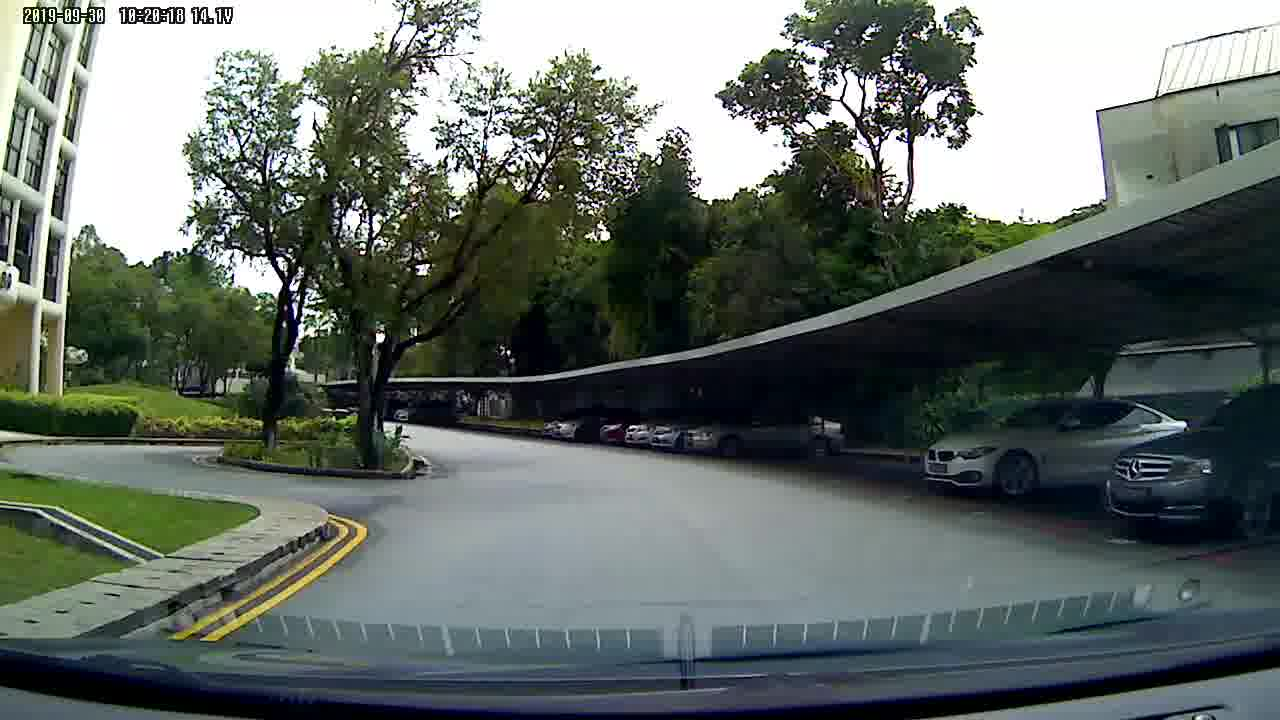car: (1105, 372, 1280, 551), (911, 398, 1108, 500), (534, 400, 847, 460)
